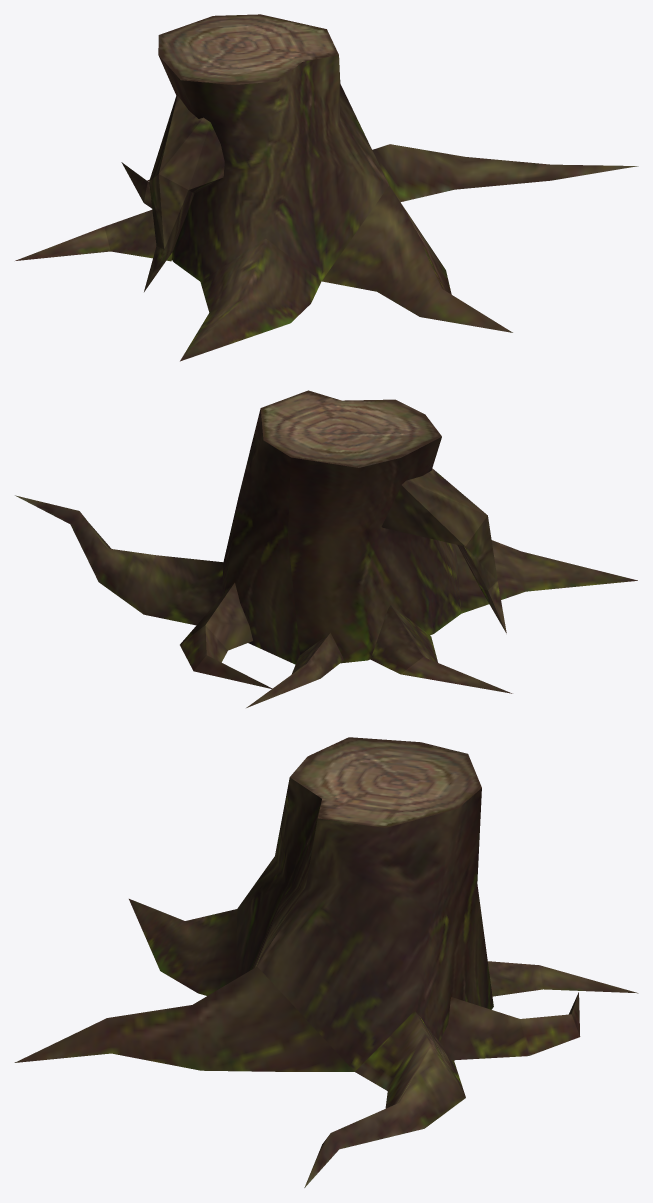
Rendered from common_yewai_shudun.FBX.
3 views of the same model, one above another, from view 1: azimuth 30°, elevation 25°; view 2: azimuth 150°, elevation 25°; view 3: azimuth 270°, elevation 25° (orthographic). The views are drawn at different scales.
Visible parts, largest first — view 1: common_yewai_shudun; view 2: common_yewai_shudun; view 3: common_yewai_shudun.
Part boxes in pixels (<box>): common_yewai_shudun: <box>15,14,638,361</box>; common_yewai_shudun: <box>15,390,637,707</box>; common_yewai_shudun: <box>14,737,638,1187</box>.
Bounding box in the file's own units: 6.64 × 2.25 × 5.61.
